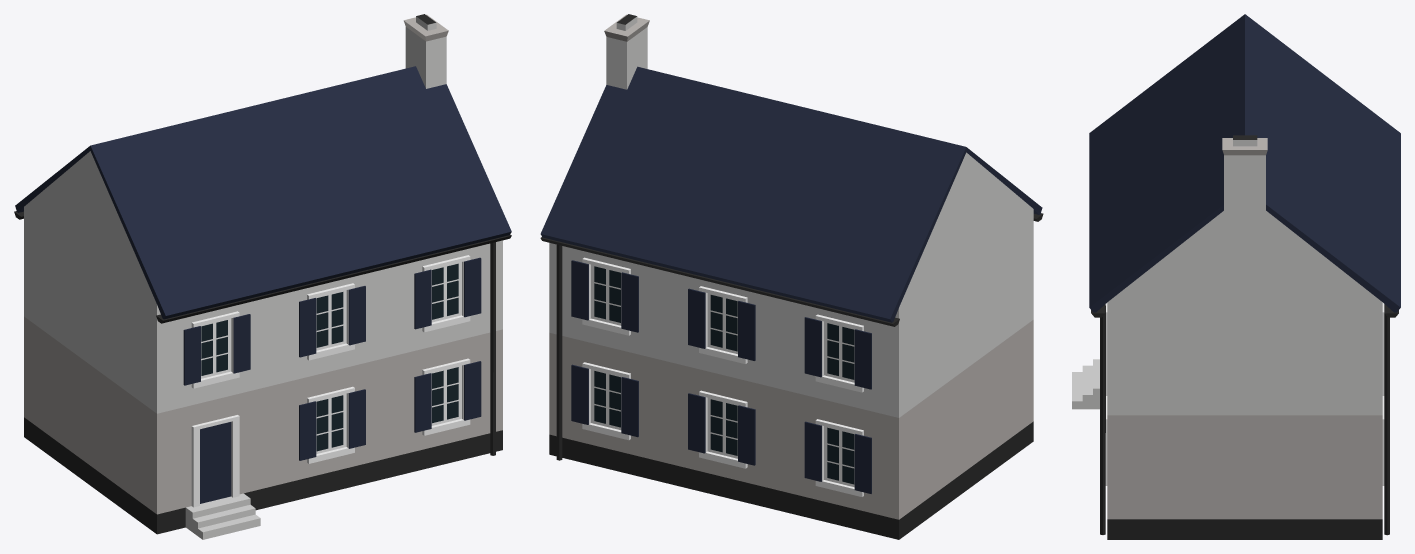
Rendered from building-house-big.glb.
3 views of the same model, side by side, from view 1: azimuth 30°, elevation 25°; view 2: azimuth 150°, elevation 25°; view 3: azimuth 270°, elevation 25° (orthographic). The views are drawn at different scales.
Visible parts, largest first — view 1: building-house-big; view 2: building-house-big; view 3: building-house-big.
Part boxes in pixels (x1,y1,x2,y2): building-house-big: (14, 14, 511, 539); building-house-big: (540, 14, 1043, 539); building-house-big: (1072, 14, 1400, 539).
Size of the model in its own units: 9.54 by 10.04 by 7.53.
Materials: 1 (1 with a texture image).
